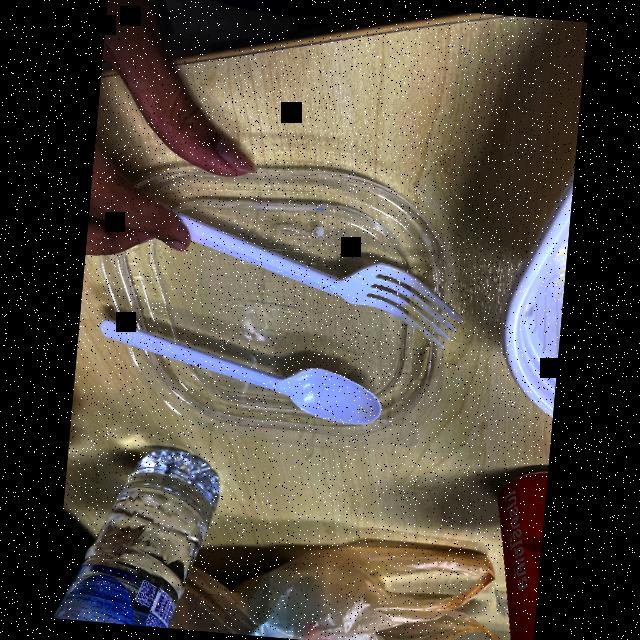plastic_spoon: (129, 182, 493, 366), (83, 295, 407, 456)
